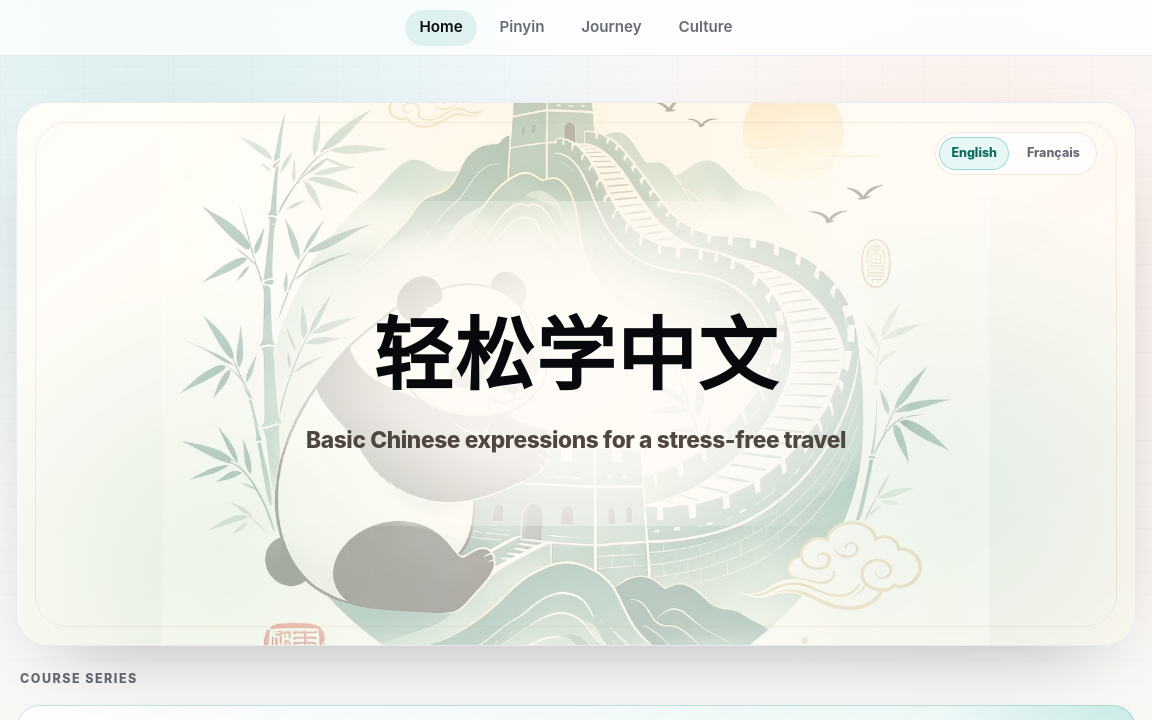
HomePage › persists a global explanation language choice from the Home hero
Click the button "Français".
click(1053, 153)  # box x1=1015 y1=137 x2=1092 y2=170
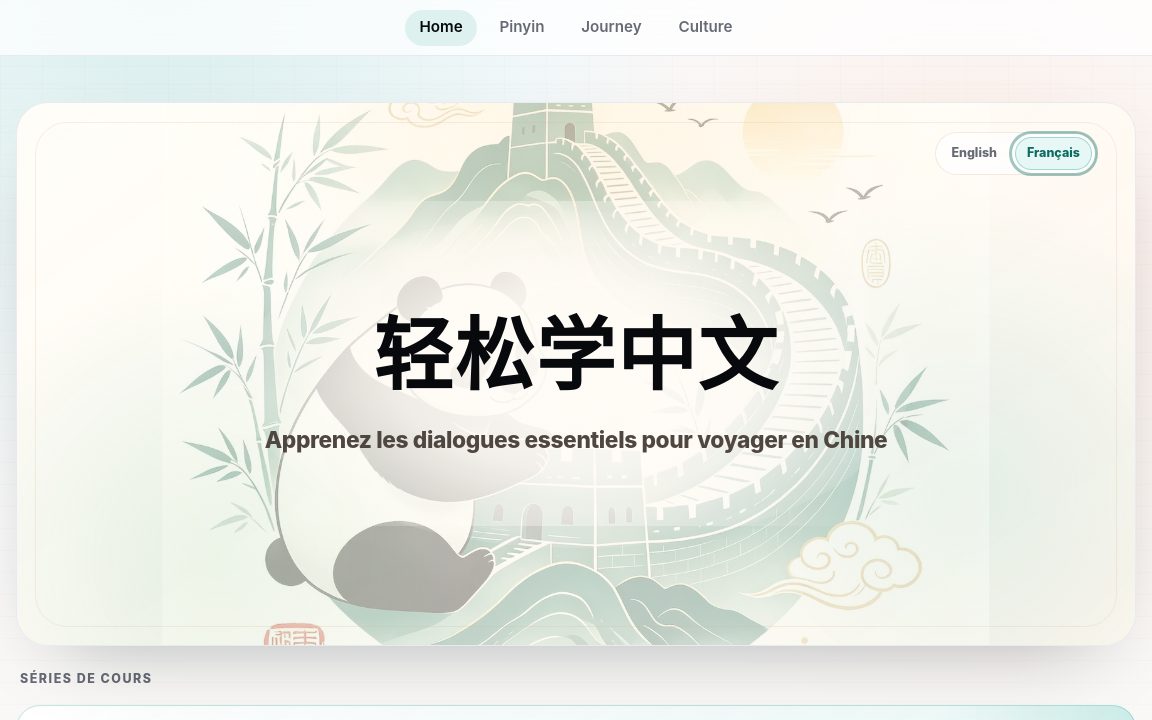
expect the text "Basic Chinese expressions for a stress-free travel" is gone: met
expect the text "Apprenez les dialogues essentiels pour voyager en Chine" is shown: met, box x1=265 y1=425 x2=887 y2=455
Click the button "English".
click(974, 153)  # box x1=939 y1=137 x2=1009 y2=170
(page scrolled)
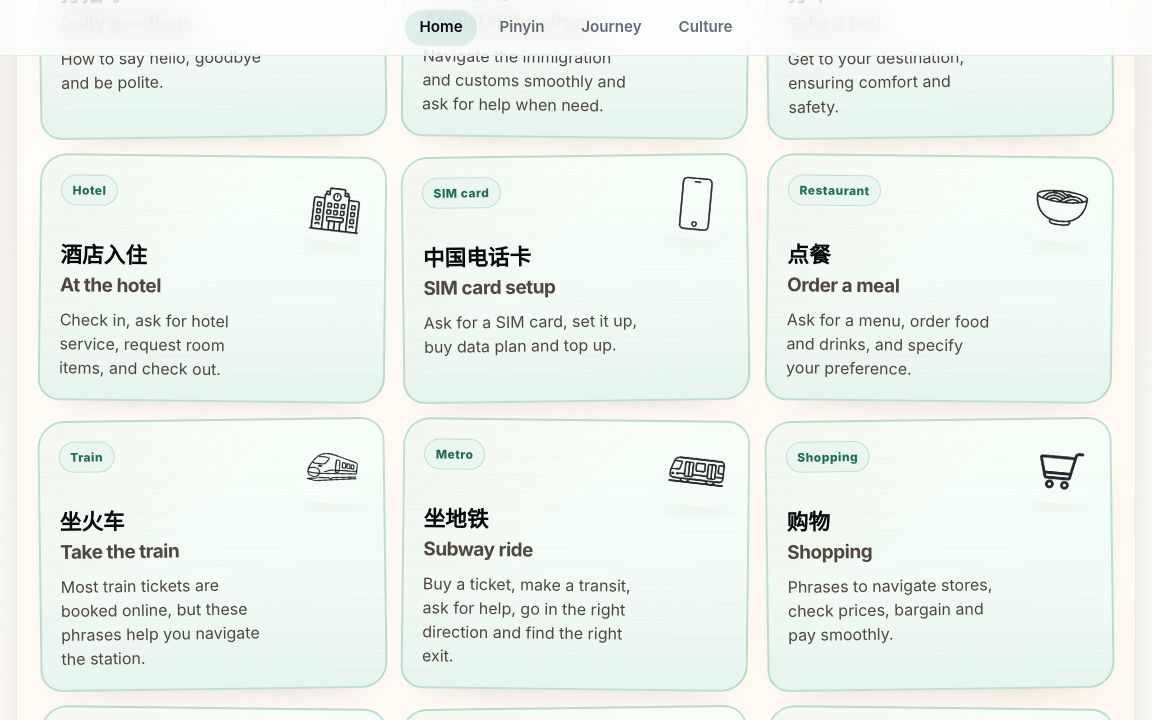
expect the text "Apprenez les dialogues essentiels pour voyager en Chine" is gone: met
